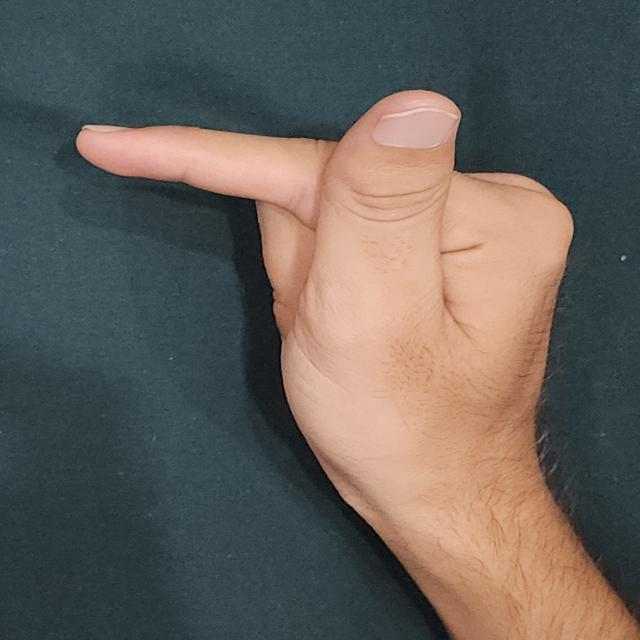ڑ: (59, 82, 586, 522)
